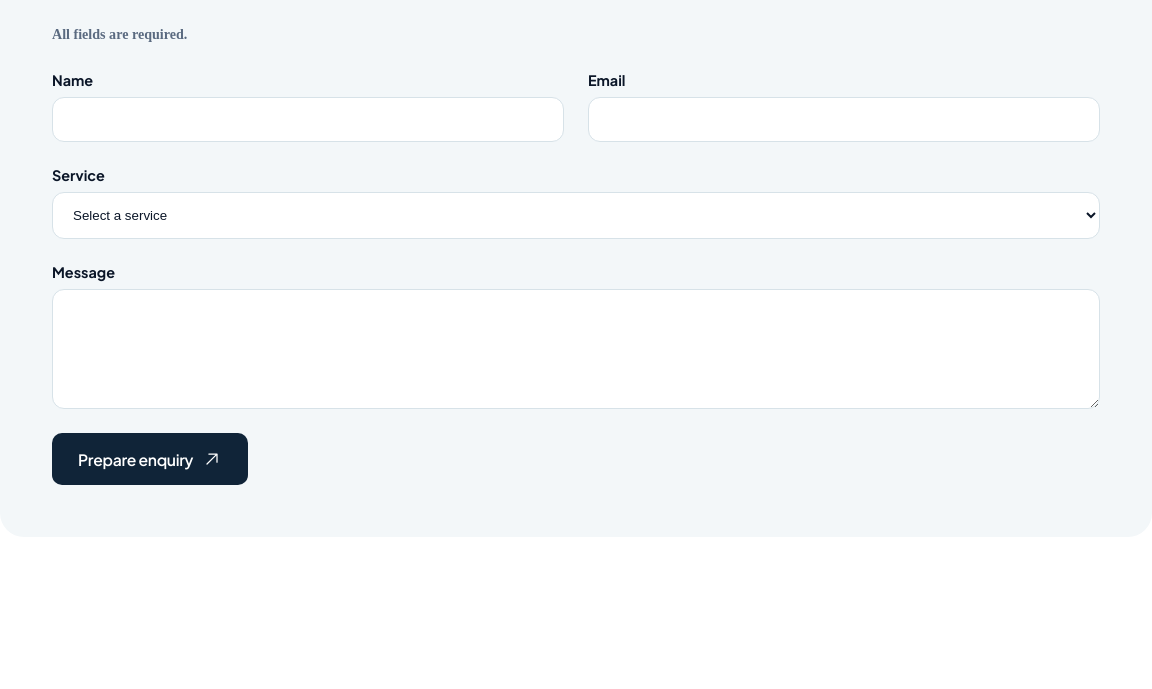
Test: ContactForm › prepares WhatsApp and email handoffs without claiming delivery
Type "Priya Shah" into the field labelled "Name" at (308, 120), box top-left (52, 97), bottom-right (564, 142)
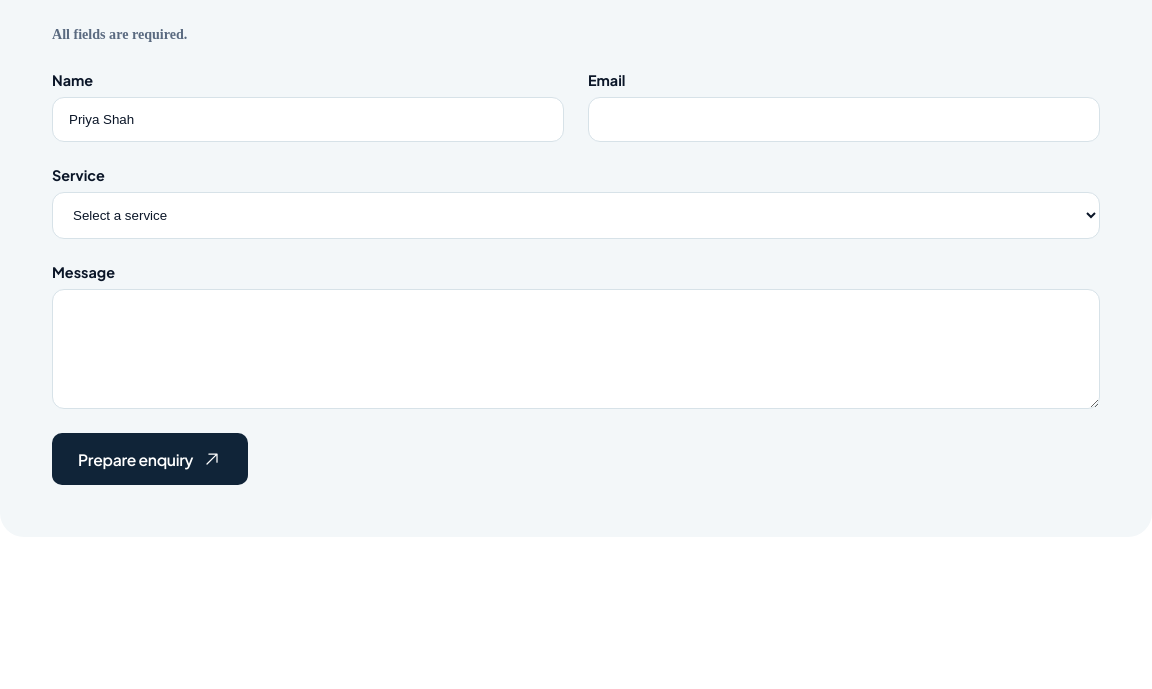
Type "priya@example.com" into the field labelled "Email" at (844, 120), box top-left (588, 97), bottom-right (1100, 142)
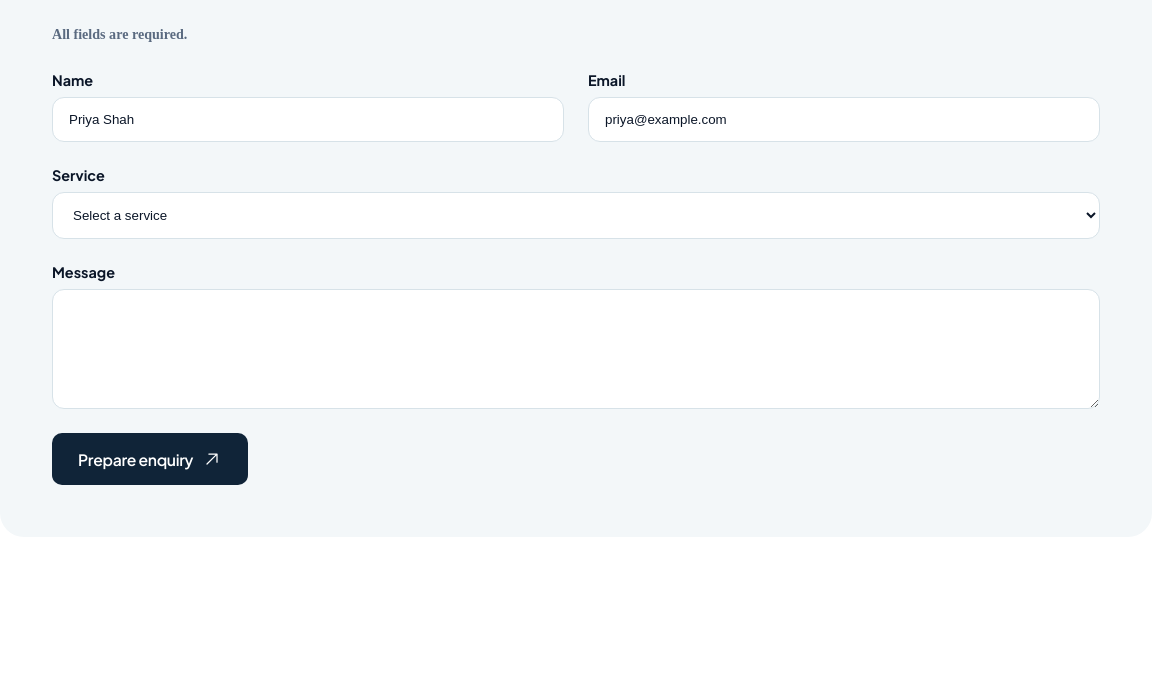
Select "Crowns & Bridges" in the dropdown labelled "Service" at (576, 216), box top-left (52, 192), bottom-right (1100, 239)
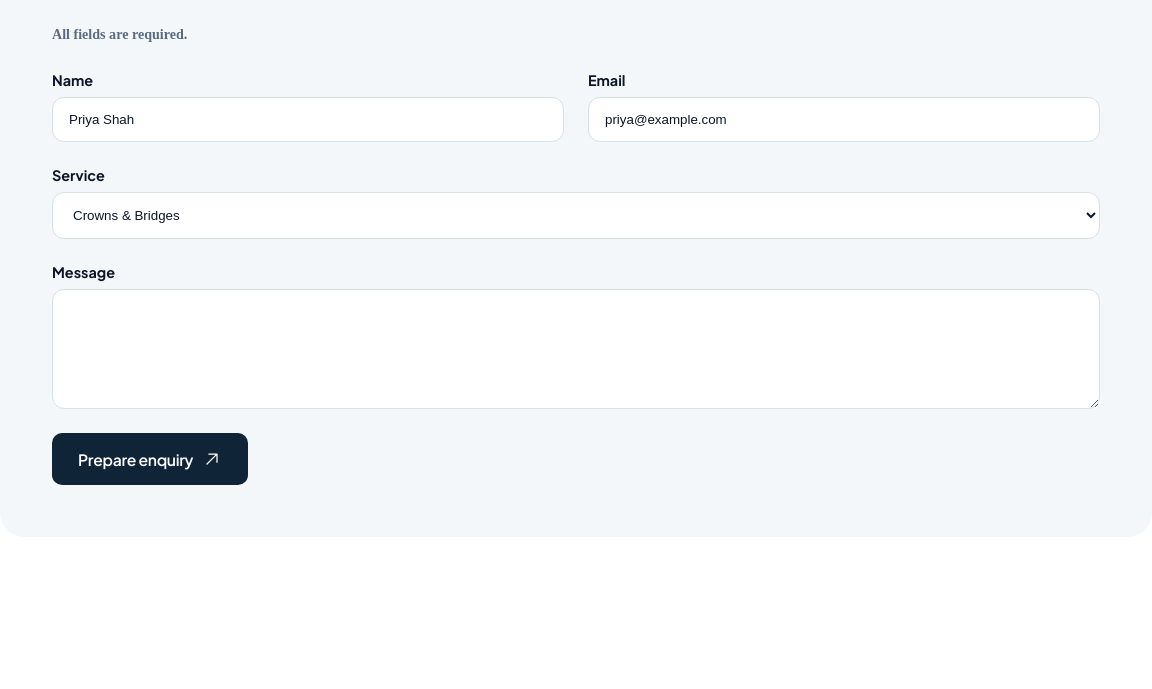
Type "Please review a crown case." into the text box labelled "Message" at (576, 349), box top-left (52, 289), bottom-right (1100, 409)
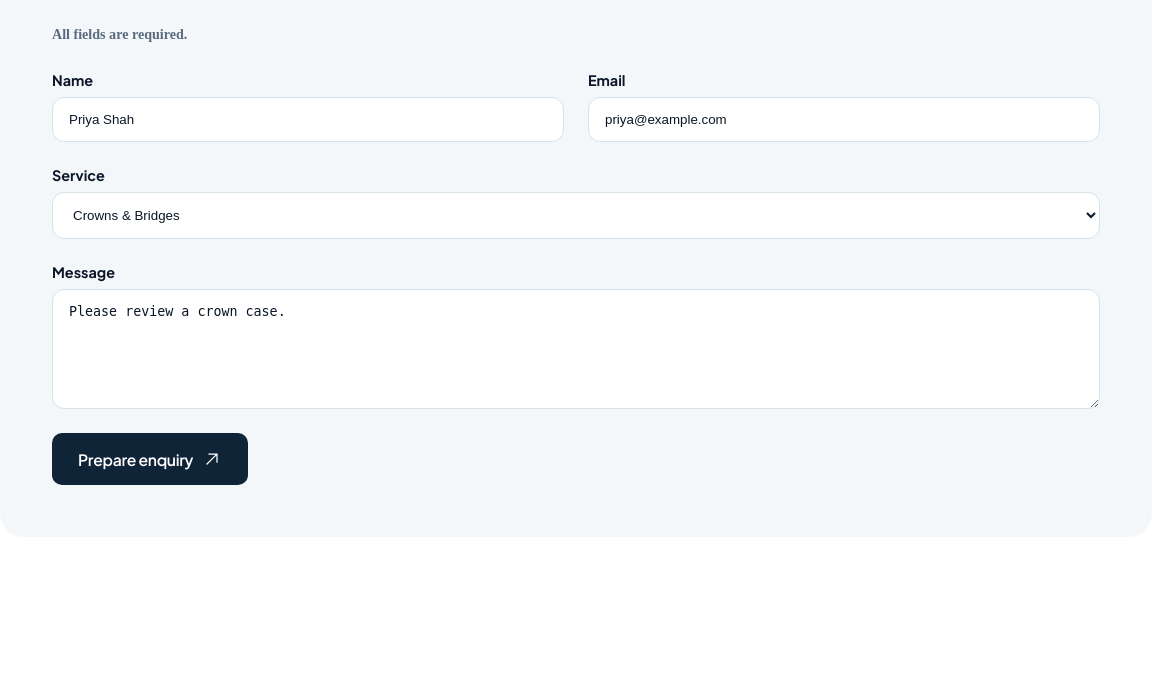
Click the button "Prepare enquiry" at (150, 459), box top-left (52, 433), bottom-right (248, 485)
(page scrolled)
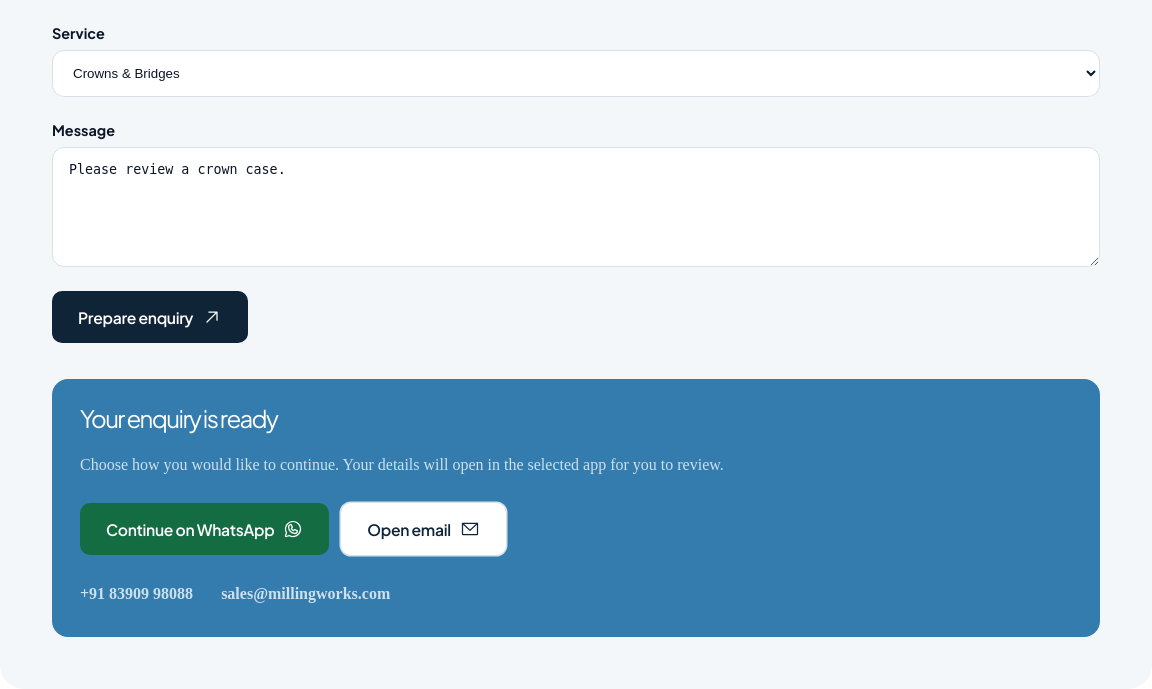
Check: the heading "Your enquiry is ready" is shown, box top-left (80, 403), bottom-right (277, 433)
Check: the text "+91 83909 98088" is shown, box top-left (80, 585), bottom-right (193, 602)
Check: the text "sales@millingworks.com" is shown, box top-left (221, 585), bottom-right (390, 602)
